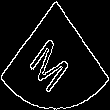M_NE: (30, 20, 80, 90)
